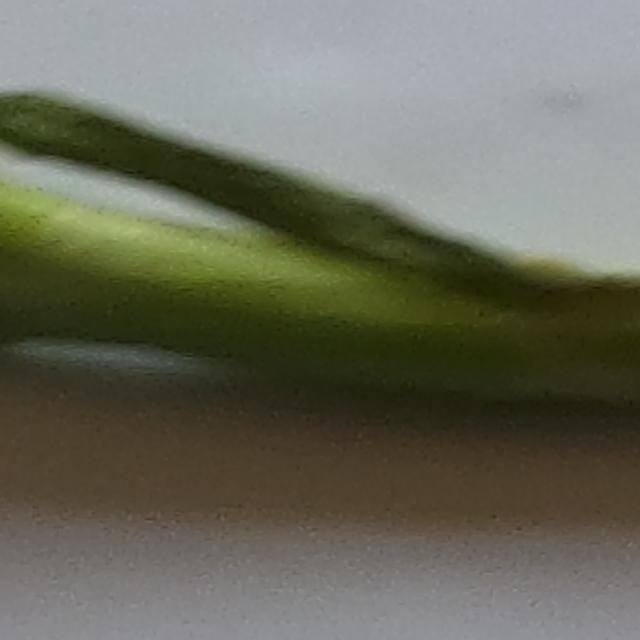green_onion: (0, 92, 640, 423)
